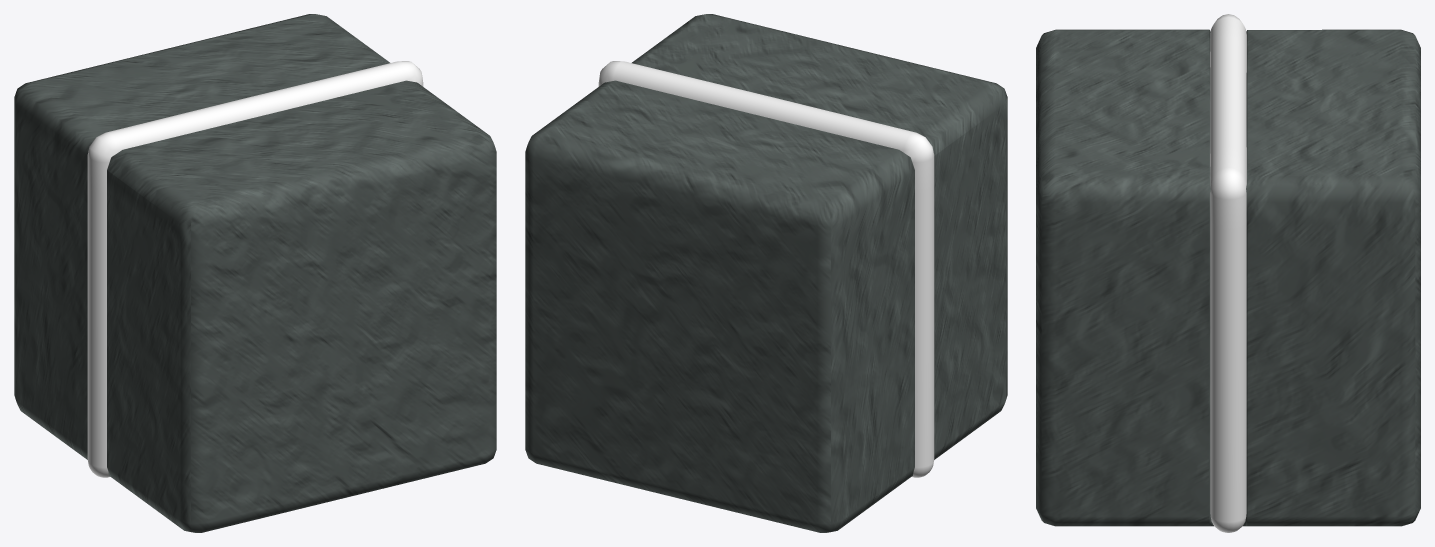
The model's file is stone_line.fbx.
3 views of the same model, side by side, from view 1: azimuth 30°, elevation 25°; view 2: azimuth 150°, elevation 25°; view 3: azimuth 270°, elevation 25° (orthographic). The views are drawn at different scales.
Parts seen in each view (by area): view 1: polySurface1, polySurface3; view 2: polySurface1, polySurface3; view 3: polySurface1, polySurface3.
Boxes of the visible parts, x1,y1,x2,y2 form: polySurface1: (14, 14, 496, 532); polySurface3: (87, 61, 423, 477); polySurface1: (525, 14, 1007, 532); polySurface3: (598, 61, 934, 477); polySurface1: (1036, 29, 1420, 526); polySurface3: (1210, 14, 1246, 532).
Size of the model in its own units: 10.5 by 10.37 by 10.
Materials: 2 (1 with a texture image).
